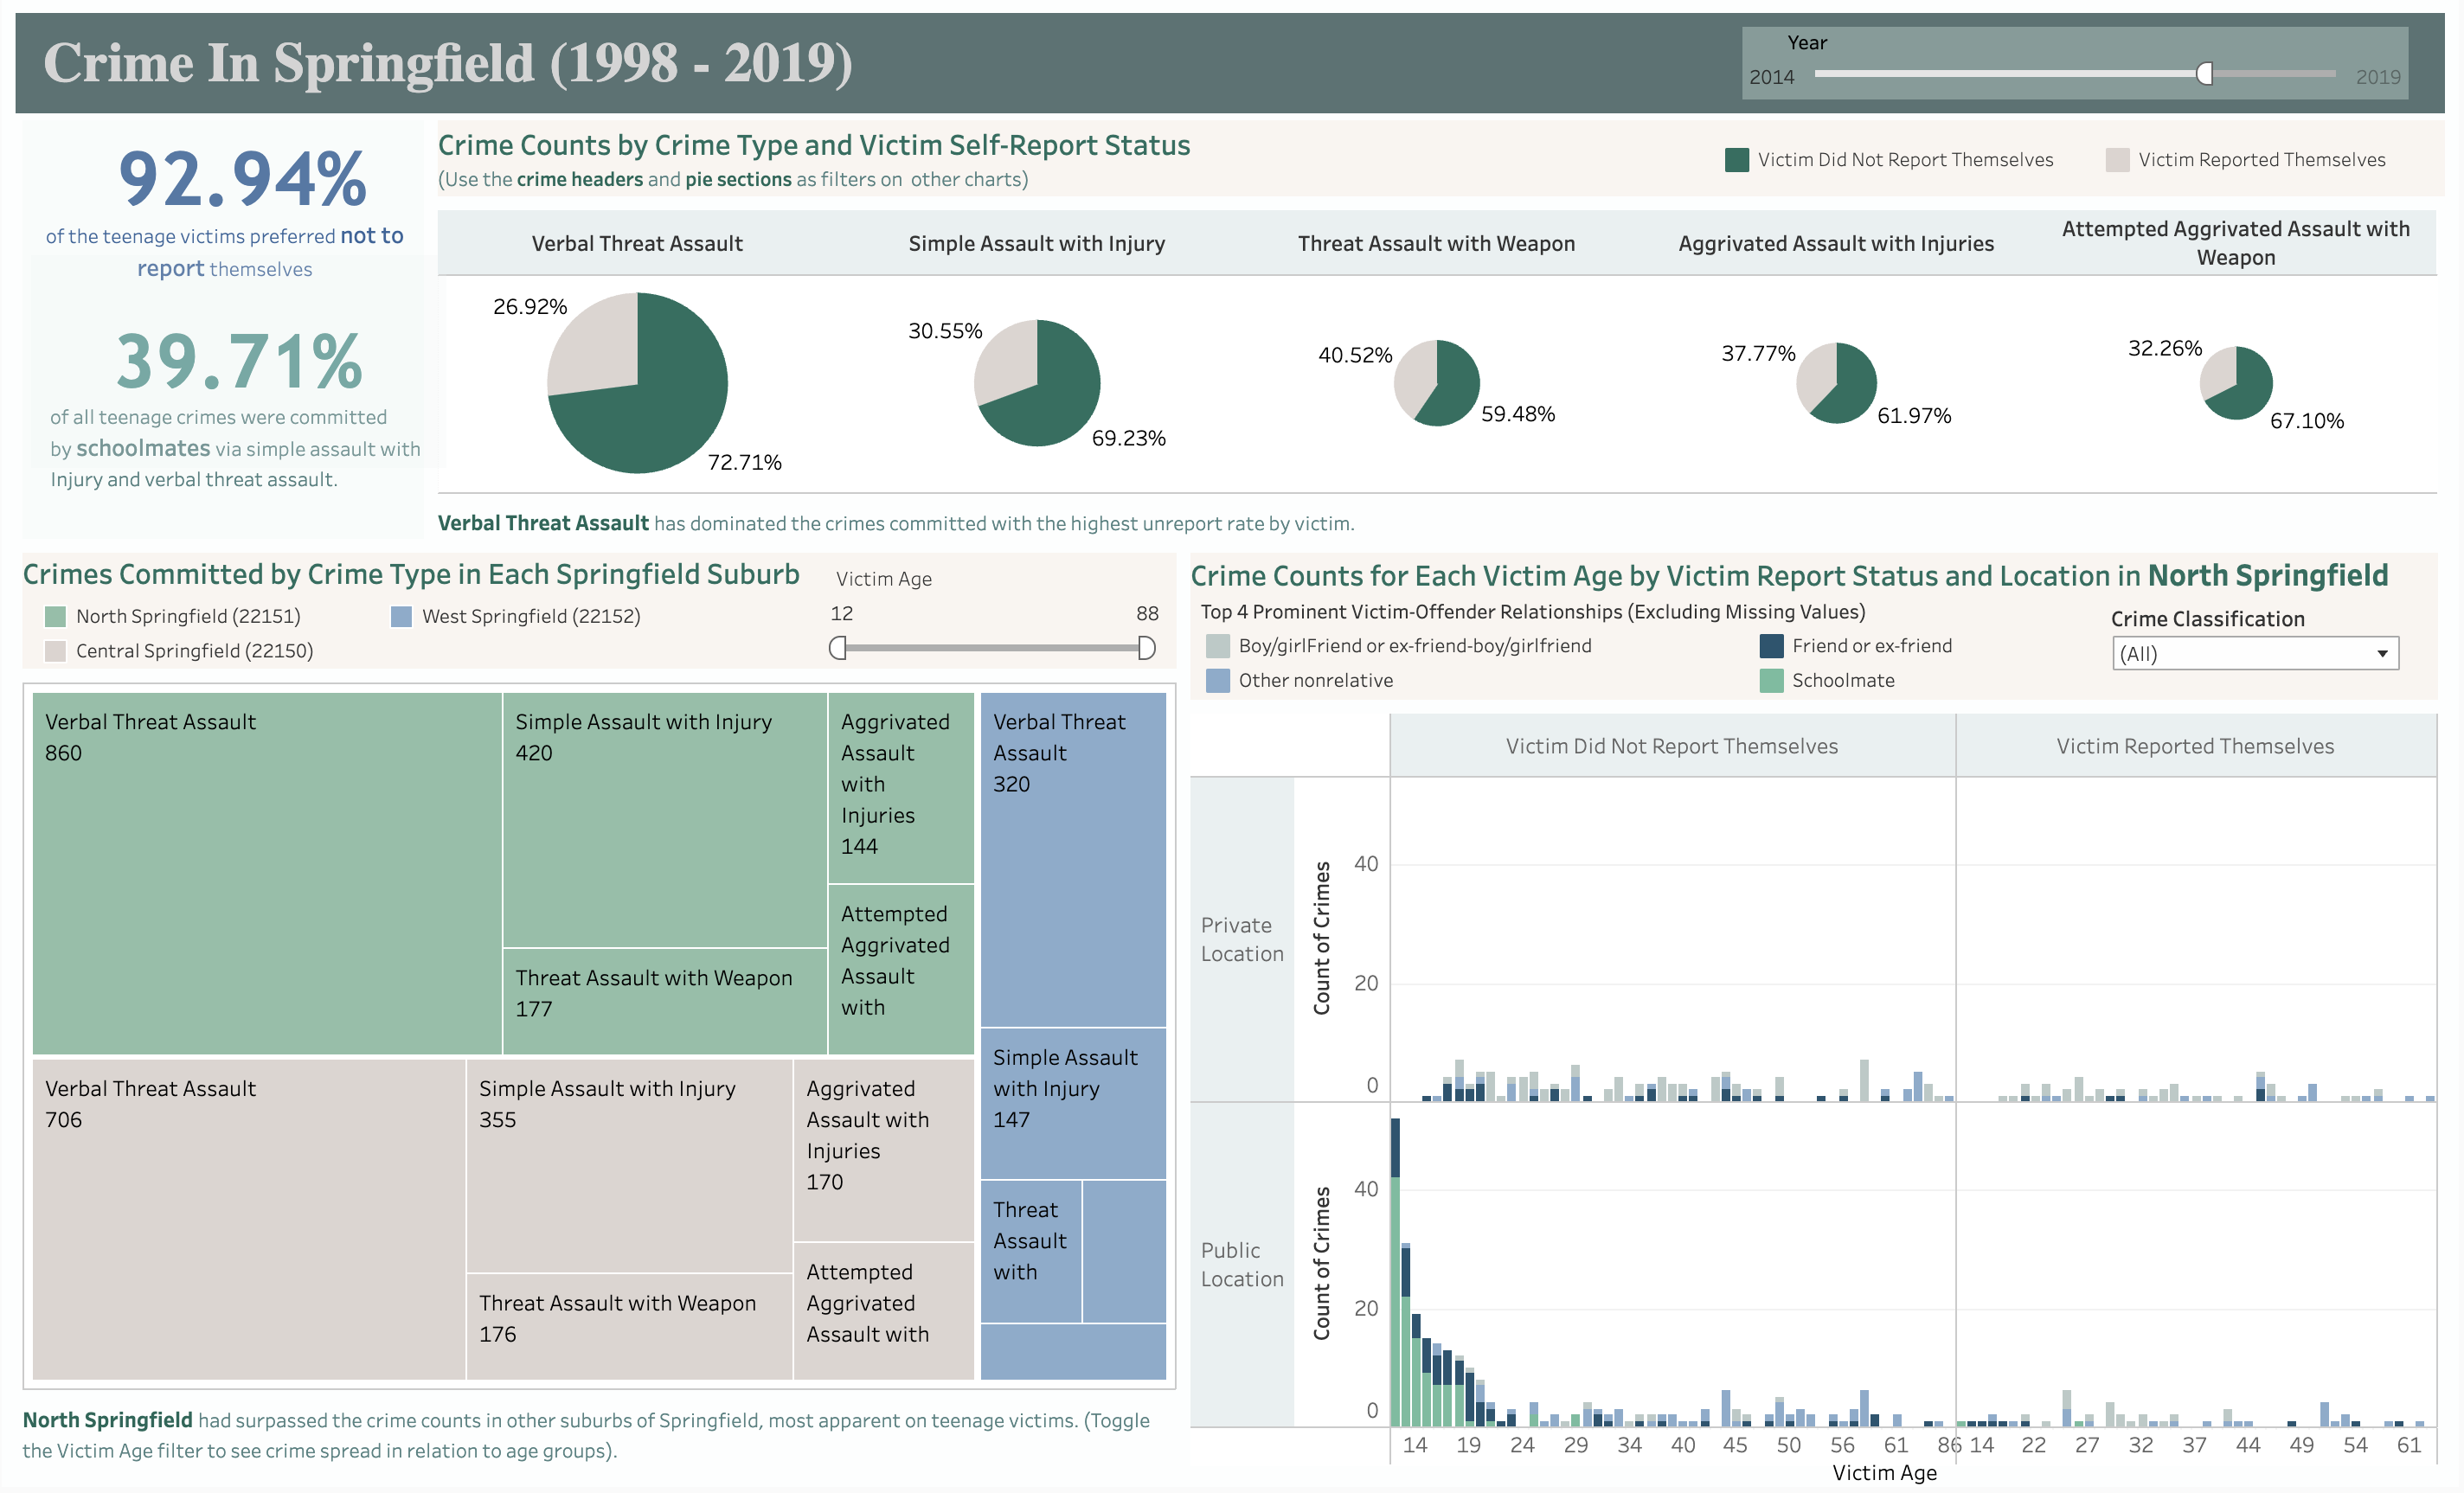

Layout of this report page (visuals, bound fields, positions):
{"tool":"tableau","page":{"name":"Final Dashboard with Captions and Titles","canvas":[1420,860],"ordinal":1},"visuals":[{"type":"text","box":[8,8,1404,58]},{"type":"filter","title":"Number of Reports by Crime Strategy","param":"[federated.188pzta1dk396j11er6ya070gr1g].[none:Year:qk]","box":[1006,16,385,42]},{"type":"blank","box":[8,66,239.7,250]},{"type":"text","box":[247.7,66,1164.3,51.8]},{"type":"worksheet","title":"BAN1 - Teenage No Self Report","mark":"Automatic","rows":["Victim Reported"],"box":[20,78,239,49]},{"type":"worksheet","title":"Number of Reports by Crime Strategy","mark":"Pie","cols":["Crime Classification"],"box":[247.7,117.8,1164.3,198.2]},{"type":"text","box":[18,119.6,222,51.4]},{"type":"worksheet","title":"BAN2 - Teenage Schoolmates Simple Assault and Verbal ","mark":"Automatic","rows":["How Did Victim Know Offender"],"box":[17,148,240,123]},{"type":"text","box":[28,217,219,83]},{"type":"text","box":[8,316,675,75]},{"type":"text","box":[683,316,729,93]},{"type":"filter","title":"Crime Type by Postal Code (2)","param":"[federated.188pzta1dk396j11er6ya070gr1g].[none:Victim Age:qk]","box":[475,326,198,63]},{"type":"legend","title":"Crime Type by Postal Code (2)","param":"[federated.188pzta1dk396j11er6ya070gr1g].[none:Calculation_4941574733701586944:n","box":[21,331,595,68]},{"type":"legend","title":"Top 4 Offender Relationships to Victim","param":"[federated.188pzta1dk396j11er6ya070gr1g].[none:How Did Victim Know Offender:nk]","box":[693,346,665,60]},{"type":"filter","title":"Top 4 Offender Relationships to Victim","param":"[federated.188pzta1dk396j11er6ya070gr1g].[none:Crime Classification:nk]","box":[1219,349,168,46]},{"type":"worksheet","title":"Crime Type by Postal Code (2)","mark":"Automatic","box":[8,391,675,461]},{"type":"worksheet","title":"Top 4 Offender Relationships to Victim","mark":"Automatic","rows":["Private Location","Crimes_332EE5AE41CE4A13BE9070D04F89A20C"],"cols":["Victim Reported","Victim Age"],"box":[683,409,729,443]}]}

Visuals, with their boxes in screenshot pixels (x1, y1, x2, y2), scaled from the page's 1420x860 canvas onto the 2464x1493 screenshot:
text: bbox=(14, 14, 2450, 114)
"Number of Reports by Crime Strategy" filter: bbox=(1746, 28, 2414, 100)
blank: bbox=(14, 114, 430, 548)
text: bbox=(430, 114, 2450, 204)
"BAN1 - Teenage No Self Report" worksheet: bbox=(35, 136, 449, 221)
"Number of Reports by Crime Strategy" worksheet (Pie marks): bbox=(430, 204, 2450, 548)
text: bbox=(31, 208, 416, 297)
"BAN2 - Teenage Schoolmates Simple Assault and Verbal " worksheet: bbox=(29, 257, 446, 471)
text: bbox=(48, 377, 428, 521)
text: bbox=(14, 548, 1185, 679)
text: bbox=(1185, 548, 2450, 710)
"Crime Type by Postal Code (2)" filter: bbox=(825, 566, 1168, 676)
"Crime Type by Postal Code (2)" legend: bbox=(36, 574, 1068, 693)
"Top 4 Offender Relationships to Victim" legend: bbox=(1203, 600, 2357, 705)
"Top 4 Offender Relationships to Victim" filter: bbox=(2115, 606, 2407, 686)
"Crime Type by Postal Code (2)" worksheet: bbox=(14, 679, 1185, 1479)
"Top 4 Offender Relationships to Victim" worksheet: bbox=(1185, 710, 2450, 1479)
